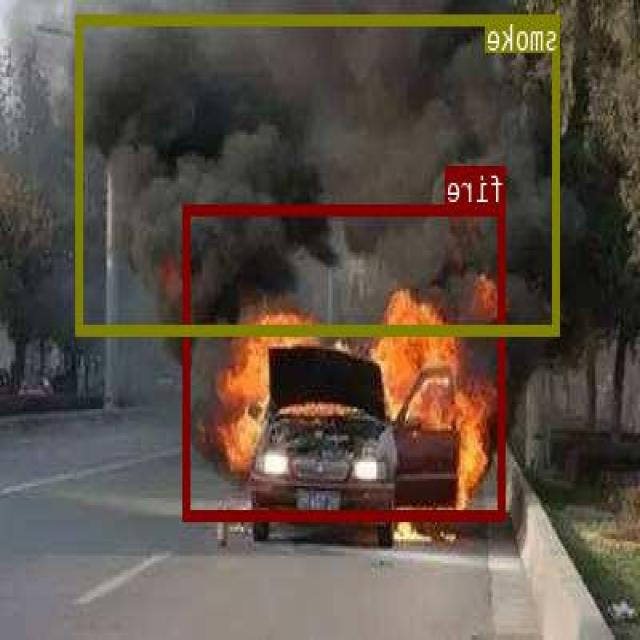fire: (184, 204, 506, 519)
smoke: (78, 14, 560, 333)
